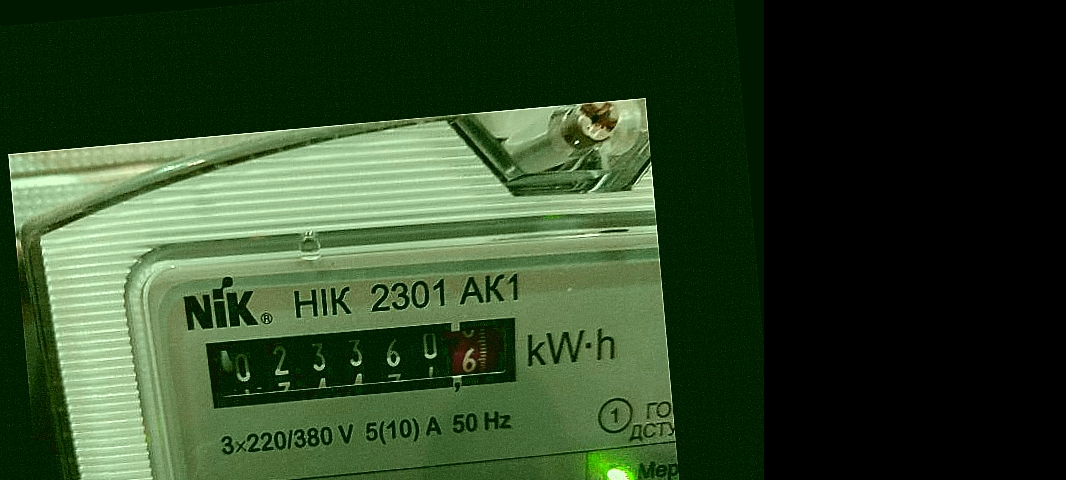0: (230, 348, 254, 383), (420, 328, 439, 360)
2: (267, 342, 293, 378)
3: (305, 339, 329, 373), (344, 335, 366, 367)
6: (380, 334, 403, 368), (456, 343, 480, 373)
screen: (186, 297, 535, 425)
